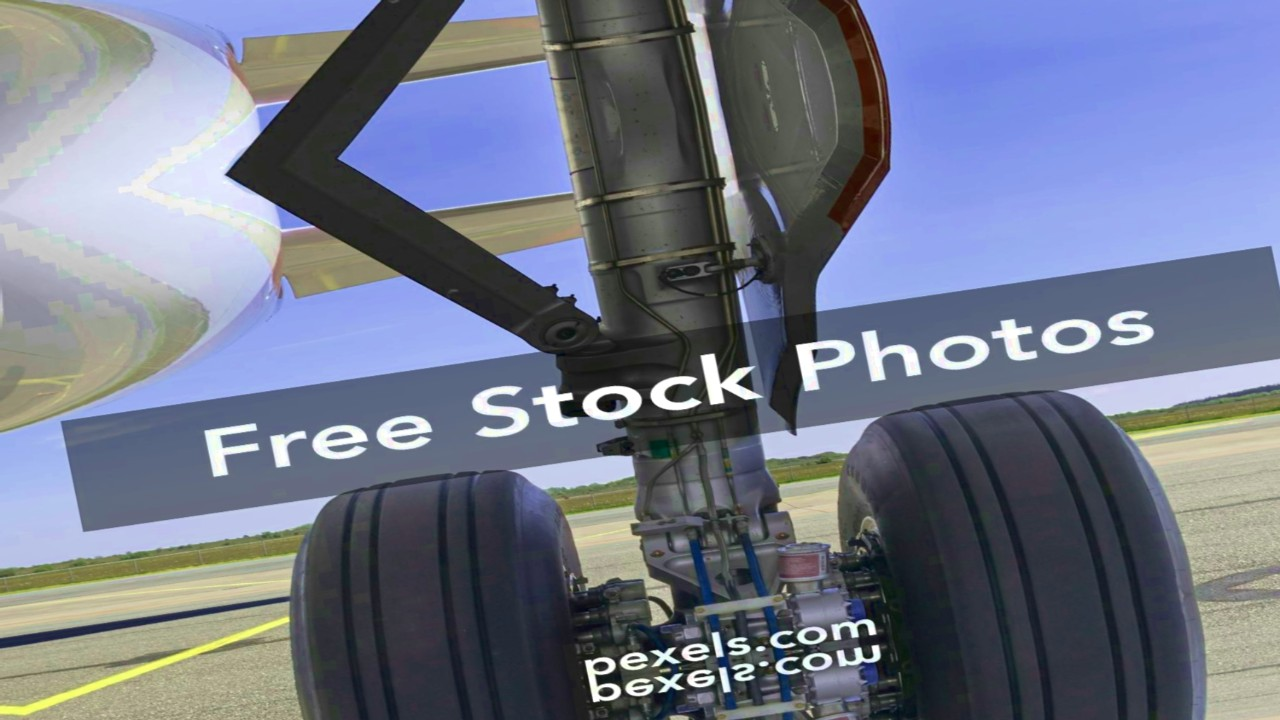wheel: (822, 372, 1195, 638), (253, 458, 601, 720), (868, 597, 1241, 720)
